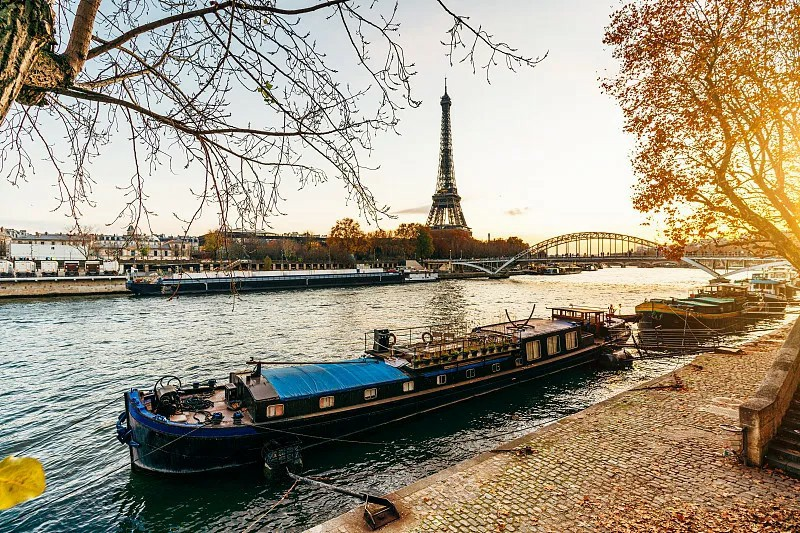Eiffel: (424, 74, 473, 240)
